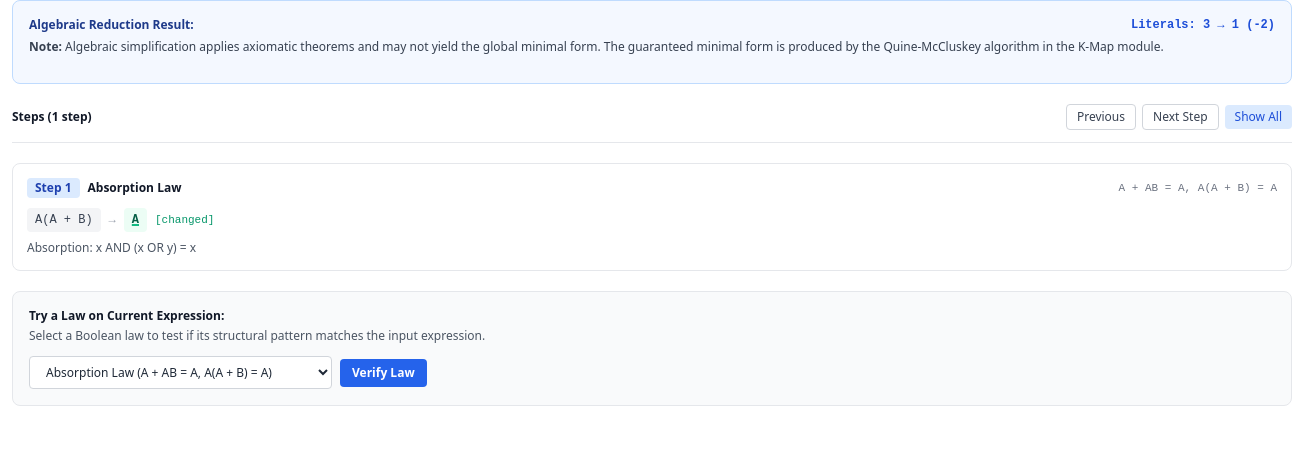
SimplificationSteps › verifies "Try a law" success when the chosen law matches the expression
// Select absorption law
Select "Absorption Law (A + AB = A, A(A + B) = A)" in the dropdown at coordinates (180, 372), box [29,356,332,389]
Click the button "Verify Law".
click(383, 372)  # box [340,358,427,386]
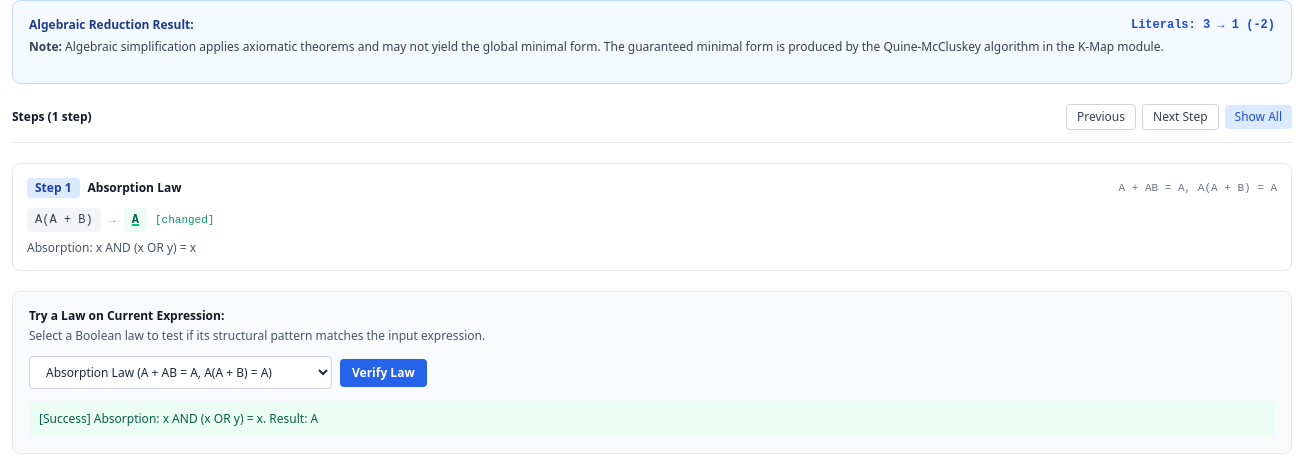
Expected: the message shows "[Success]", [39,410,318,427]
Expected: the message shows "Absorption", [39,410,318,427]
